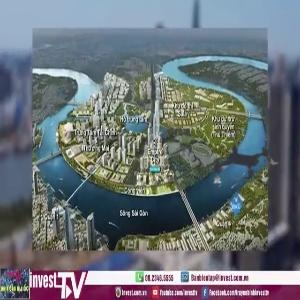drone: (195, 112, 297, 214)
